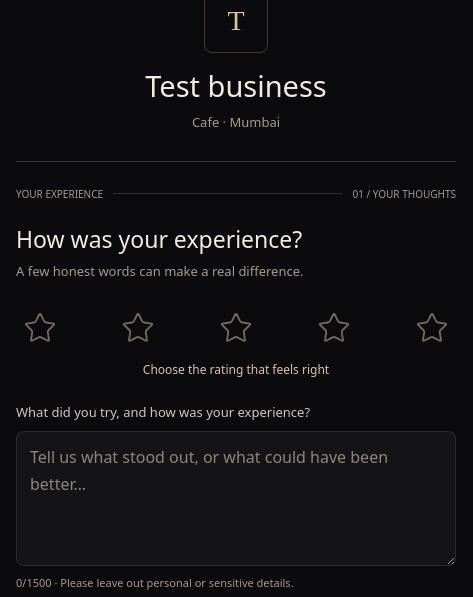
Scenario: handles a hosting rate-limit HTML response without showing parser errors
Click the button named "3 stars" at (236, 328), box x1=212 y1=304 x2=260 y2=352
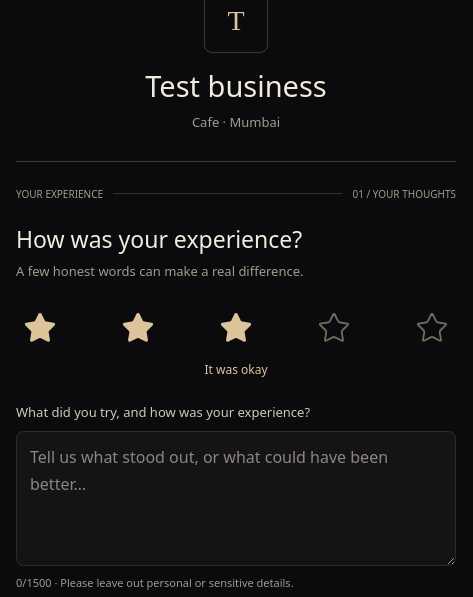
Type "The tea was fine." into the text box labelled "What did you try, and how was your experience?" at (236, 498), box x1=16 y1=431 x2=456 y2=566
(page scrolled)
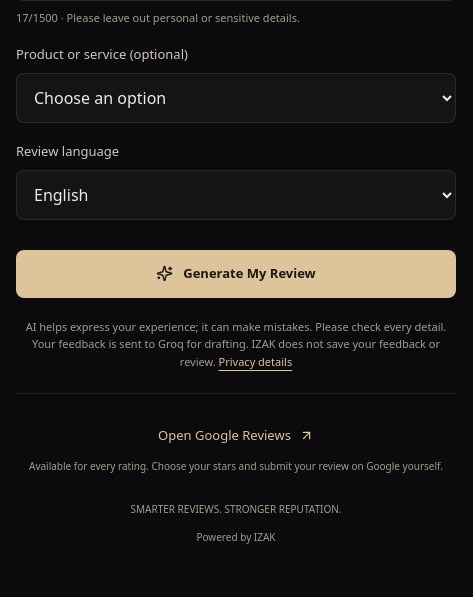
Click the button "Generate My Review" at (236, 274), box x1=16 y1=250 x2=456 y2=298
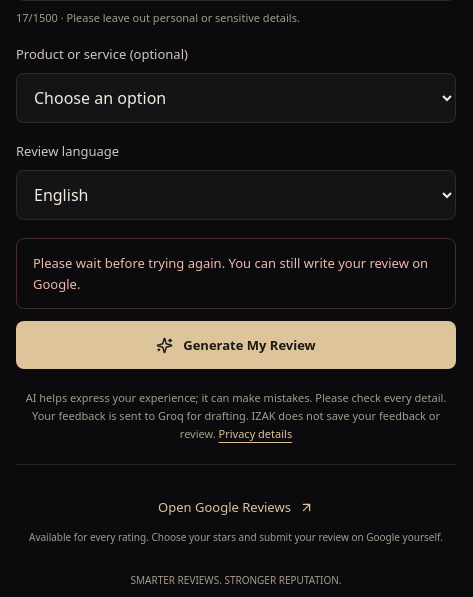
Expected: the link "Open Google Reviews" is shown, x1=158 y1=498 x2=314 y2=516
Now the message shows "Please wait", box x1=33 y1=254 x2=428 y2=292
